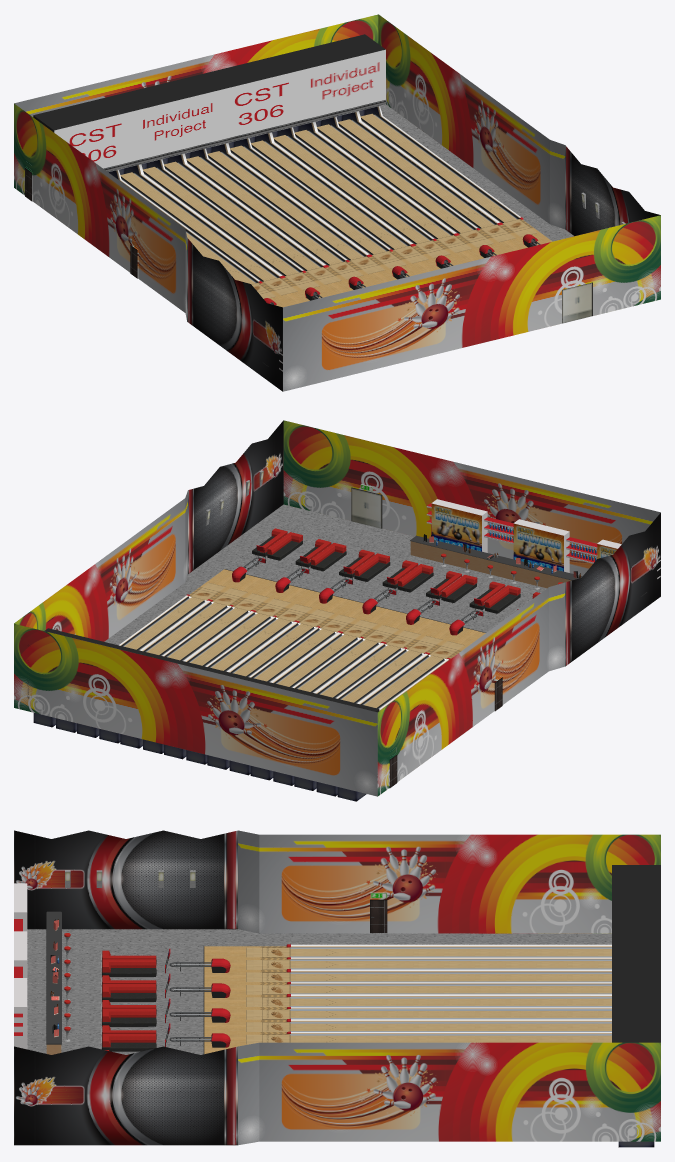
File: Venue01Full.fbx
3 views of the same model, one above another, from view 1: azimuth 30°, elevation 25°; view 2: azimuth 150°, elevation 25°; view 3: azimuth 270°, elevation 25° (orthographic). The views are drawn at different scales.
Parts seen in each view (by area): view 1: U3DMesh; view 2: U3DMesh; view 3: U3DMesh.
Part boxes in pixels (x1,y1,x2,y2): U3DMesh: [14, 14, 660, 391]; U3DMesh: [14, 420, 660, 801]; U3DMesh: [14, 830, 660, 1147].
Bounding box in the file's own units: 32.28 × 7.97 × 40.86.
